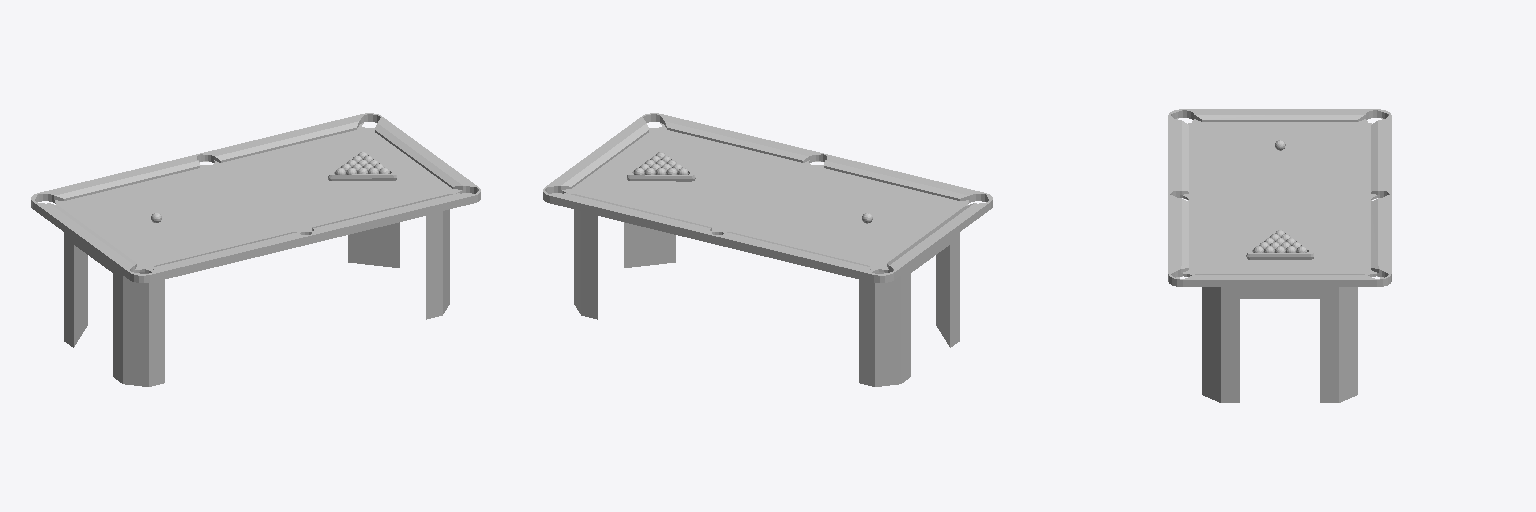
File: table_small [preset].obj
3 views of the same model, side by side, from view 1: azimuth 30°, elevation 25°; view 2: azimuth 150°, elevation 25°; view 3: azimuth 270°, elevation 25° (orthographic).
Parts seen in each view (by area): view 1: table_Cube, legs_Cube.003, ball_set_Sphere.000, rack_Sphere.019; view 2: table_Cube, legs_Cube.003, ball_set_Sphere.000, rack_Sphere.019; view 3: table_Cube, legs_Cube.003, ball_set_Sphere.000, rack_Sphere.019.
Part boxes in pixels (bbox=[...]): table_Cube: bbox=[31, 113, 480, 282]; legs_Cube.003: bbox=[64, 209, 449, 386]; ball_set_Sphere.000: bbox=[335, 152, 389, 174]; rack_Sphere.019: bbox=[328, 151, 396, 180]; table_Cube: bbox=[543, 113, 992, 282]; legs_Cube.003: bbox=[574, 209, 959, 386]; ball_set_Sphere.000: bbox=[634, 152, 688, 174]; rack_Sphere.019: bbox=[627, 151, 695, 181]; table_Cube: bbox=[1168, 109, 1391, 286]; legs_Cube.003: bbox=[1202, 287, 1357, 402]; ball_set_Sphere.000: bbox=[1253, 230, 1306, 252]; rack_Sphere.019: bbox=[1246, 229, 1313, 259].
Bounding box in the file's own units: 2.12 × 0.7759 × 1.17.